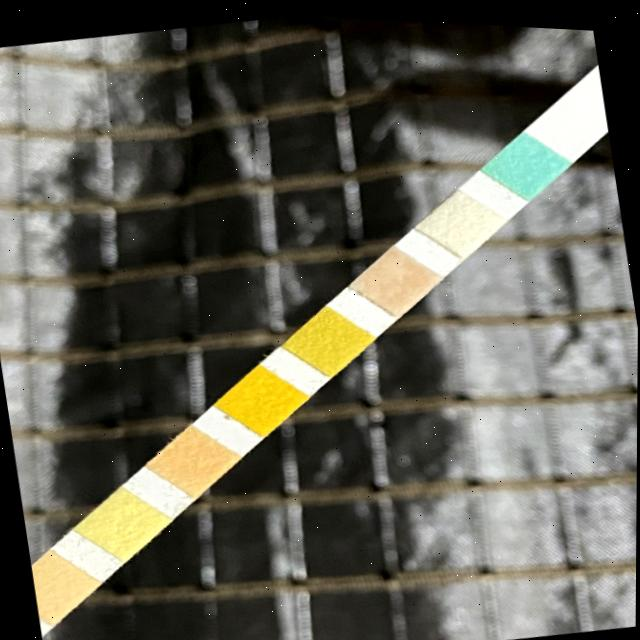Bilirubin: (433, 197, 486, 240)
Blood: (236, 375, 288, 421)
Glucose: (500, 136, 549, 180)
Ketone: (368, 255, 424, 299)
Protein: (95, 499, 150, 547)
SpGravity: (301, 314, 356, 361)
Urobilinogen: (32, 564, 78, 610)
pH: (169, 436, 219, 483)
